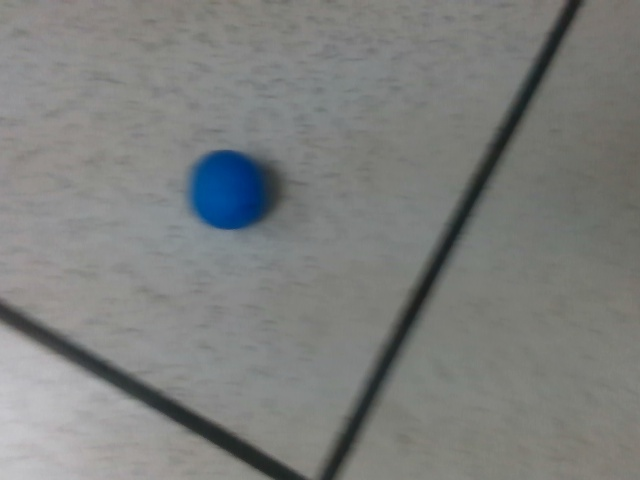blueball: (186, 147, 273, 233)
